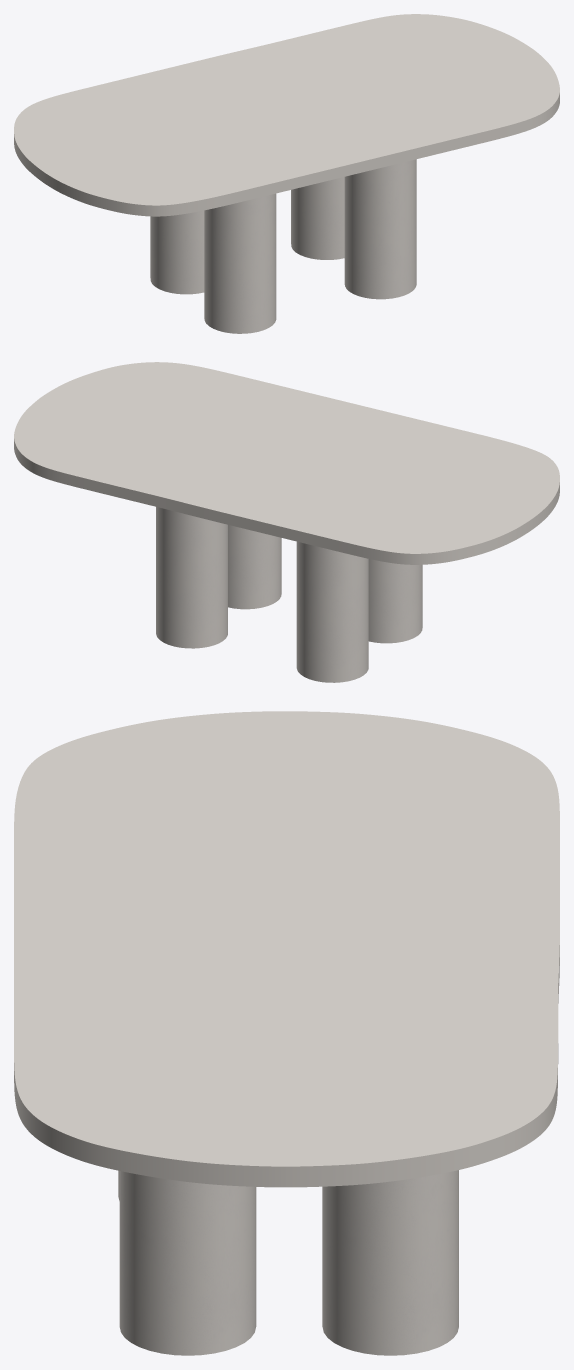
Rendered from pearlwhite_oval_standard_grove.glb.
3 views of the same model, one above another, from view 1: azimuth 30°, elevation 25°; view 2: azimuth 150°, elevation 25°; view 3: azimuth 270°, elevation 25° (orthographic). The views are drawn at different scales.
Parts seen in each view (by area): view 1: standard_oval, grove; view 2: standard_oval, grove; view 3: standard_oval, grove.
Boxes of the visible parts, left/top/right/bottom form: standard_oval: left=14, top=14, right=559, bottom=216; grove: left=150, top=159, right=416, bottom=333; standard_oval: left=14, top=362, right=559, bottom=564; grove: left=156, top=507, right=422, bottom=682; standard_oval: left=14, top=711, right=559, bottom=1187; grove: left=118, top=1170, right=458, bottom=1355.
Bounding box in the file's own units: 7.5 × 2.5 × 3.8.
1 material, 1 textured.
